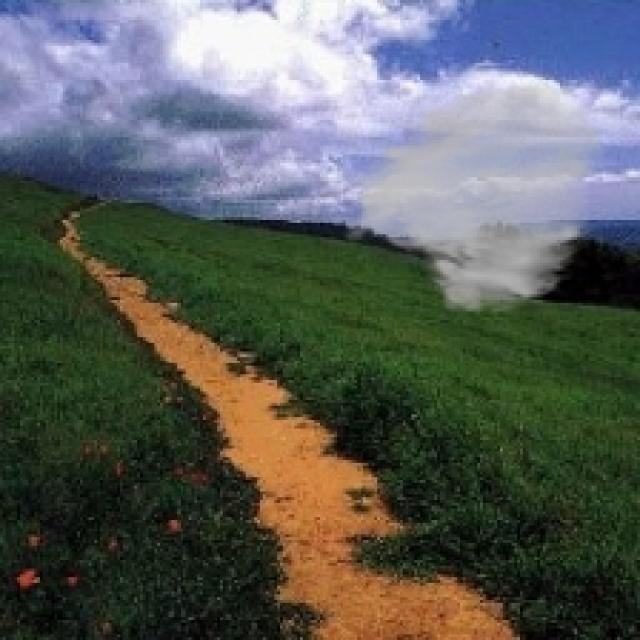smoke: (340, 80, 609, 317)
